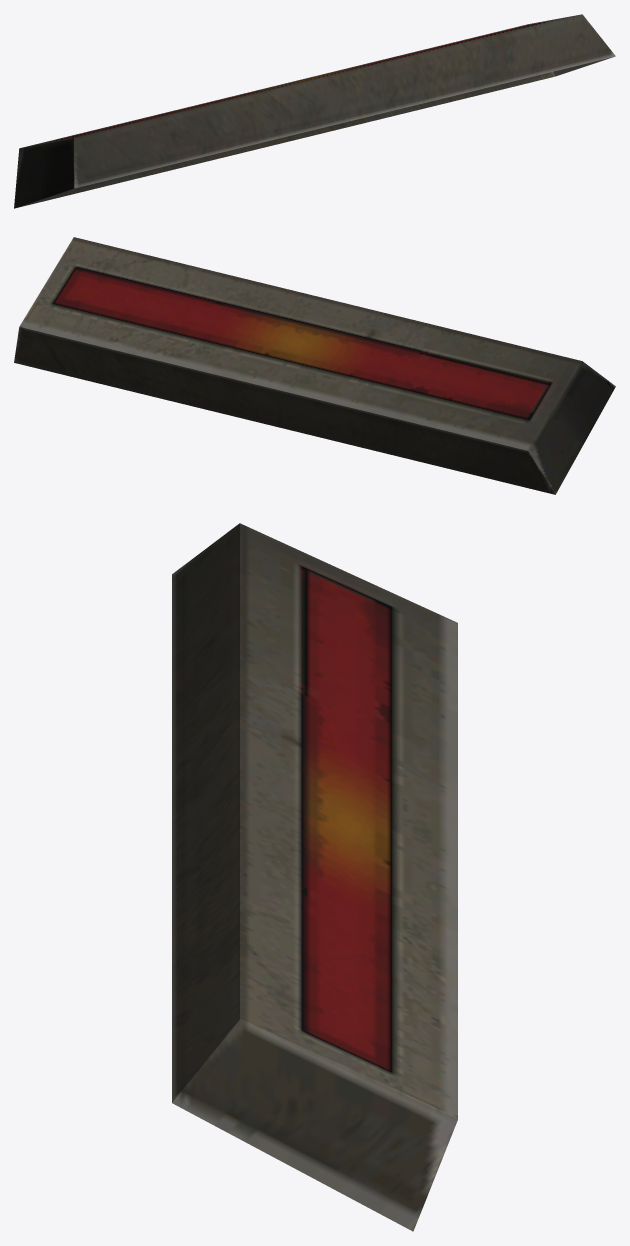
The model's file is power_generator_flesher_light.DAE.
The picture shows the model from 3 angles, top to bottom: view 1: azimuth 30°, elevation 25°; view 2: azimuth 150°, elevation 25°; view 3: azimuth 270°, elevation 25°; orthographic projection. The views are drawn at different scales.
Parts seen in each view (by area): view 1: power_generator_flesher_light; view 2: power_generator_flesher_light; view 3: power_generator_flesher_light.
Part boxes in pixels (x1,y1,x2,y2): power_generator_flesher_light: (14, 14, 615, 208); power_generator_flesher_light: (14, 237, 615, 494); power_generator_flesher_light: (172, 523, 457, 1231).
Bounding box in the file's own units: 25.64 × 5.87 × 4.43.
